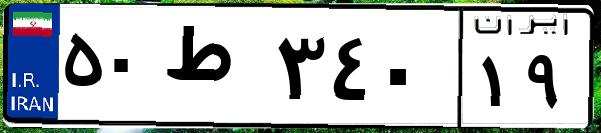0: (385, 28, 445, 110), (110, 28, 158, 98)
1: (475, 38, 525, 113)
3: (270, 28, 330, 110)
4: (330, 28, 385, 110)
5: (57, 26, 110, 100)
9: (525, 38, 570, 115)
ط: (158, 20, 270, 120)
